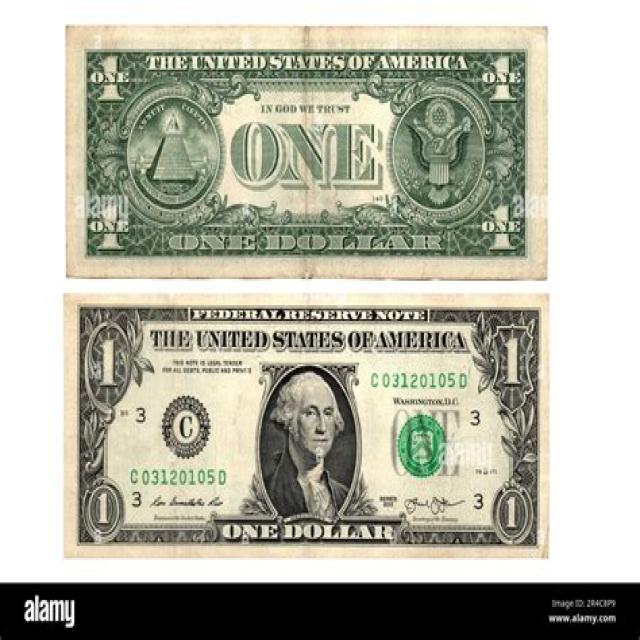One: (62, 290, 550, 561), (63, 22, 549, 282)
